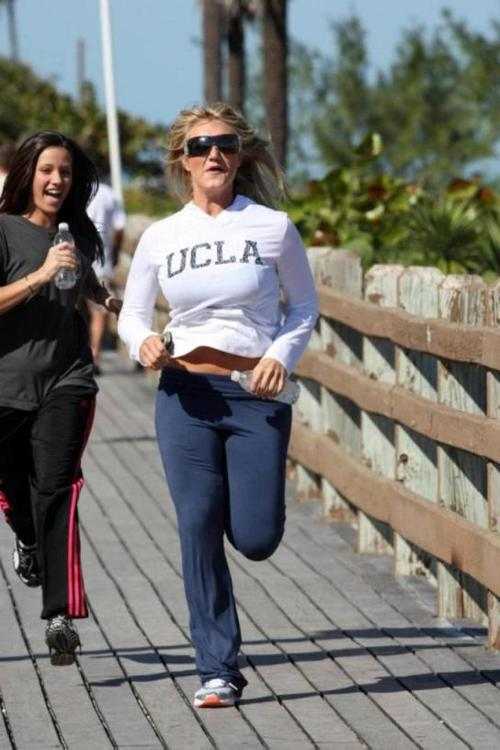person: (116, 102, 320, 707)
